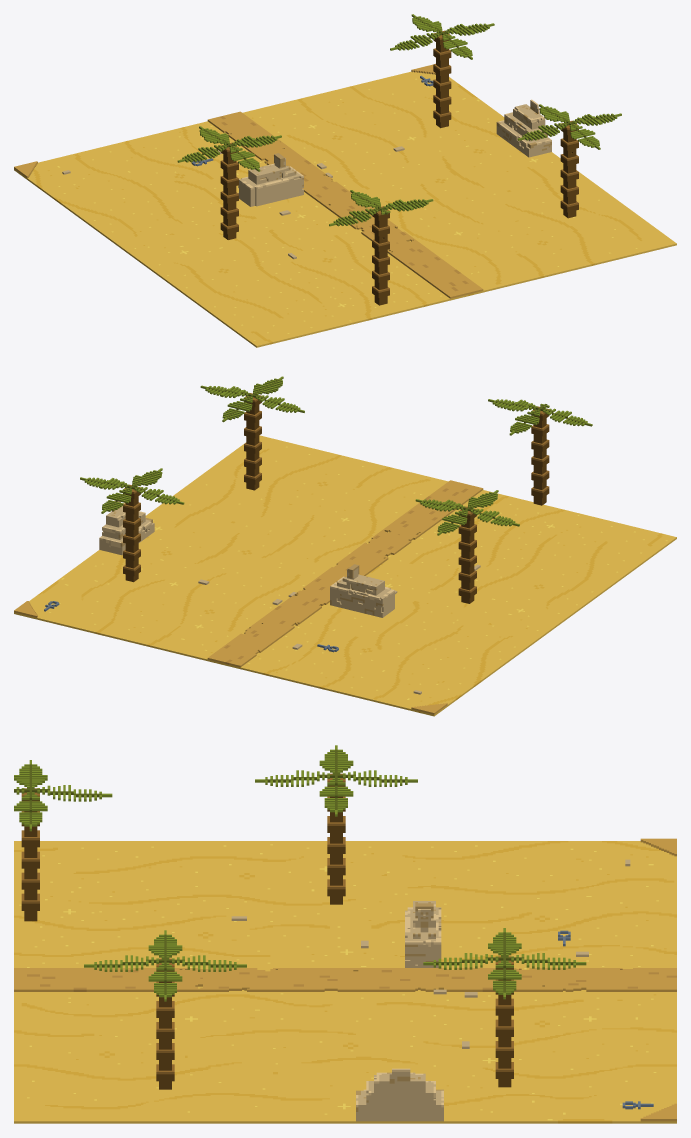
The model's file is shadow-2.obj.
The picture shows the model from 3 angles, top to bottom: view 1: azimuth 30°, elevation 25°; view 2: azimuth 150°, elevation 25°; view 3: azimuth 270°, elevation 25°; orthographic projection. The views are drawn at different scales.
Size of the model in its own units: 25.6 by 6 by 25.6.
1 material, 1 textured.
